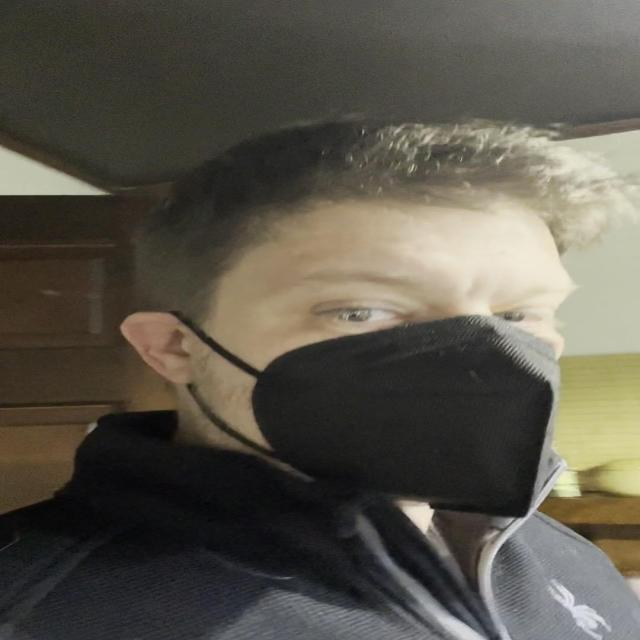1_mascarilla: (222, 312, 560, 517)
